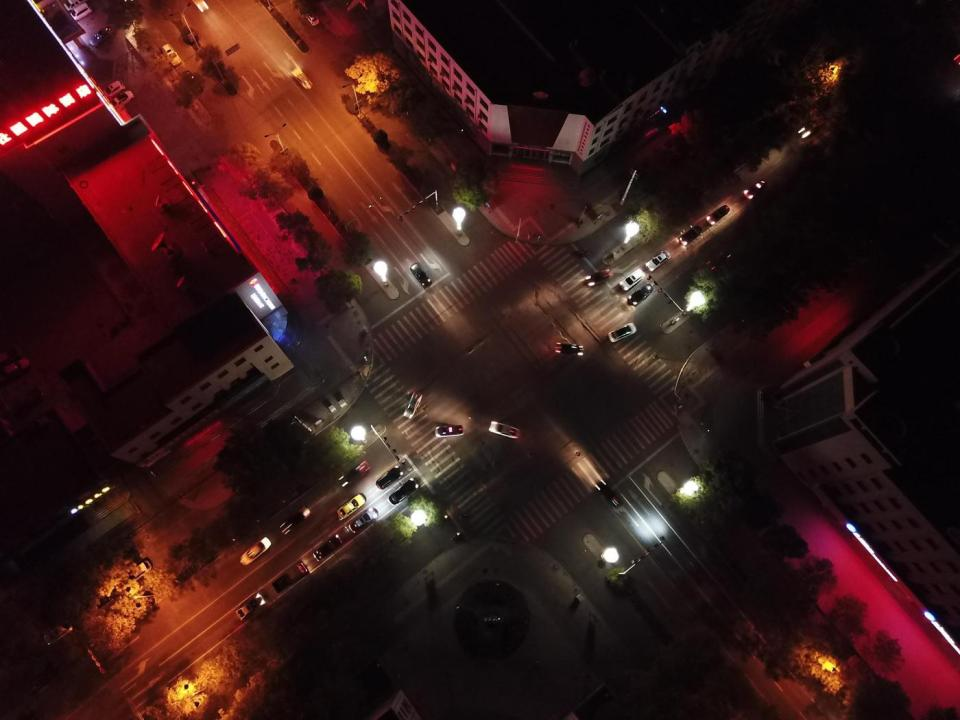car: (272, 562, 309, 593), (239, 536, 271, 565), (278, 507, 310, 535), (75, 591, 109, 617), (236, 592, 266, 621), (338, 461, 371, 487), (388, 478, 419, 505), (44, 618, 72, 646), (348, 507, 378, 533), (594, 478, 620, 508), (337, 493, 365, 520), (313, 534, 342, 560), (122, 558, 152, 582), (797, 117, 825, 141), (376, 466, 402, 490), (180, 71, 204, 95), (618, 269, 644, 291), (645, 250, 671, 272), (608, 323, 636, 343), (489, 421, 520, 439), (89, 25, 114, 47), (707, 250, 732, 272), (410, 262, 432, 286), (629, 283, 653, 305), (706, 204, 730, 226), (741, 180, 767, 200), (404, 390, 421, 420), (584, 269, 612, 287), (554, 342, 584, 358), (678, 226, 702, 246), (99, 80, 125, 98), (292, 68, 314, 89), (290, 415, 312, 436), (111, 90, 134, 110), (161, 44, 181, 66), (69, 3, 92, 22), (435, 424, 464, 437), (63, 0, 84, 12), (191, 0, 209, 12)
van: (303, 7, 320, 26)
